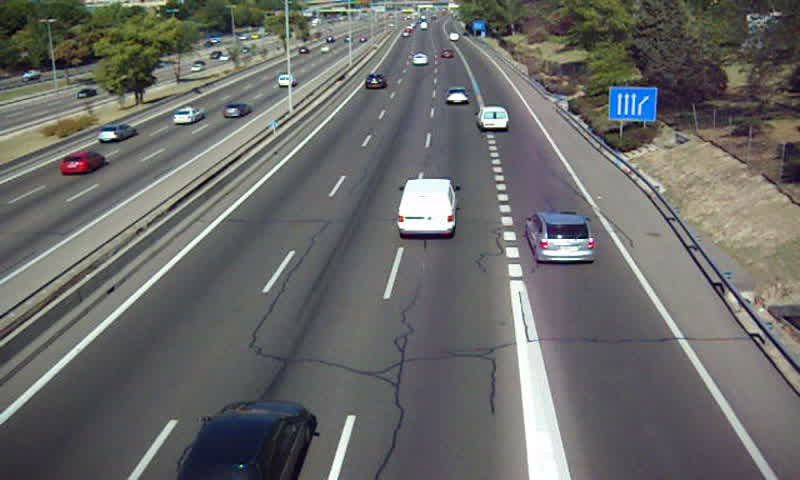car: (179, 402, 311, 480), (529, 212, 593, 262), (443, 86, 472, 106), (365, 73, 387, 90), (410, 51, 429, 65)
van: (397, 180, 456, 237), (478, 107, 509, 131)
